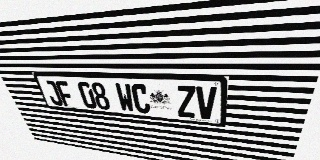0: (76, 81, 98, 109)
8: (90, 82, 111, 110)
C: (130, 83, 151, 114)
F: (54, 81, 76, 107)
J: (43, 80, 64, 106)
V: (196, 86, 217, 120)
W: (114, 83, 135, 112)
Z: (176, 85, 196, 118)
